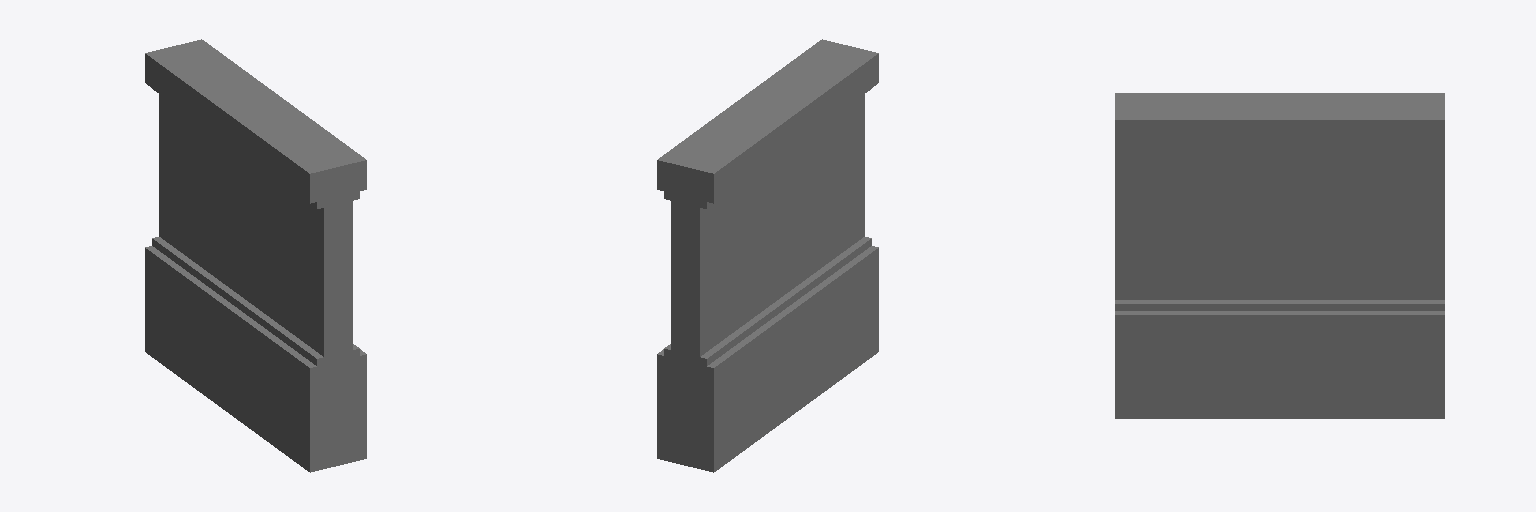
The picture shows the model from 3 angles: view 1: azimuth 30°, elevation 25°; view 2: azimuth 150°, elevation 25°; view 3: azimuth 270°, elevation 25°; orthographic projection.
Parts seen in each view (by area): view 1: wall3; view 2: wall3; view 3: wall3.
Boxes of the visible parts, <box> form: wall3: <box>145,39,366,472</box>; wall3: <box>657,39,878,472</box>; wall3: <box>1115,93,1444,418</box>.
Bounding box in the file's own units: 8 × 40 × 40.
Materials: 1 (1 with a texture image).